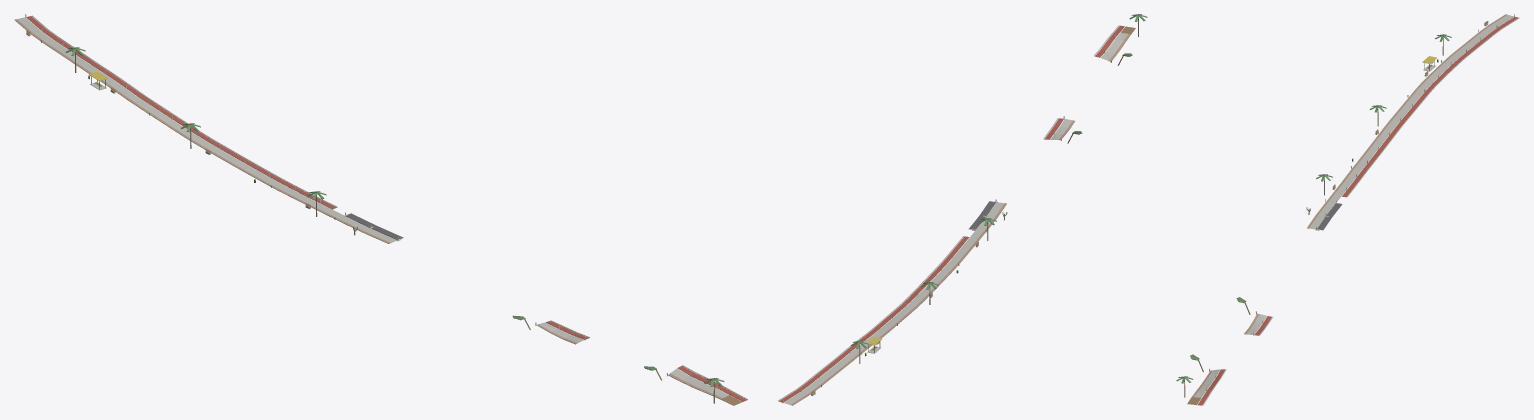
Rendered from nw_mk_boca.glb.
3 renders of one model, left to right at view 1: azimuth 30°, elevation 25°; view 2: azimuth 150°, elevation 25°; view 3: azimuth 330°, elevation 25°, orthographic. The views are drawn at different scales.
Visible parts, largest first — view 1: nw_mk_boca_lod0; view 2: nw_mk_boca_lod0; view 3: nw_mk_boca_lod0.
Part boxes in pixels (<box>): nw_mk_boca_lod0: <box>14,14,747,405</box>; nw_mk_boca_lod0: <box>778,14,1147,405</box>; nw_mk_boca_lod0: <box>1176,14,1519,405</box>.
Size of what is drawn, in the model's own units: 49.37 by 13.72 by 234.
